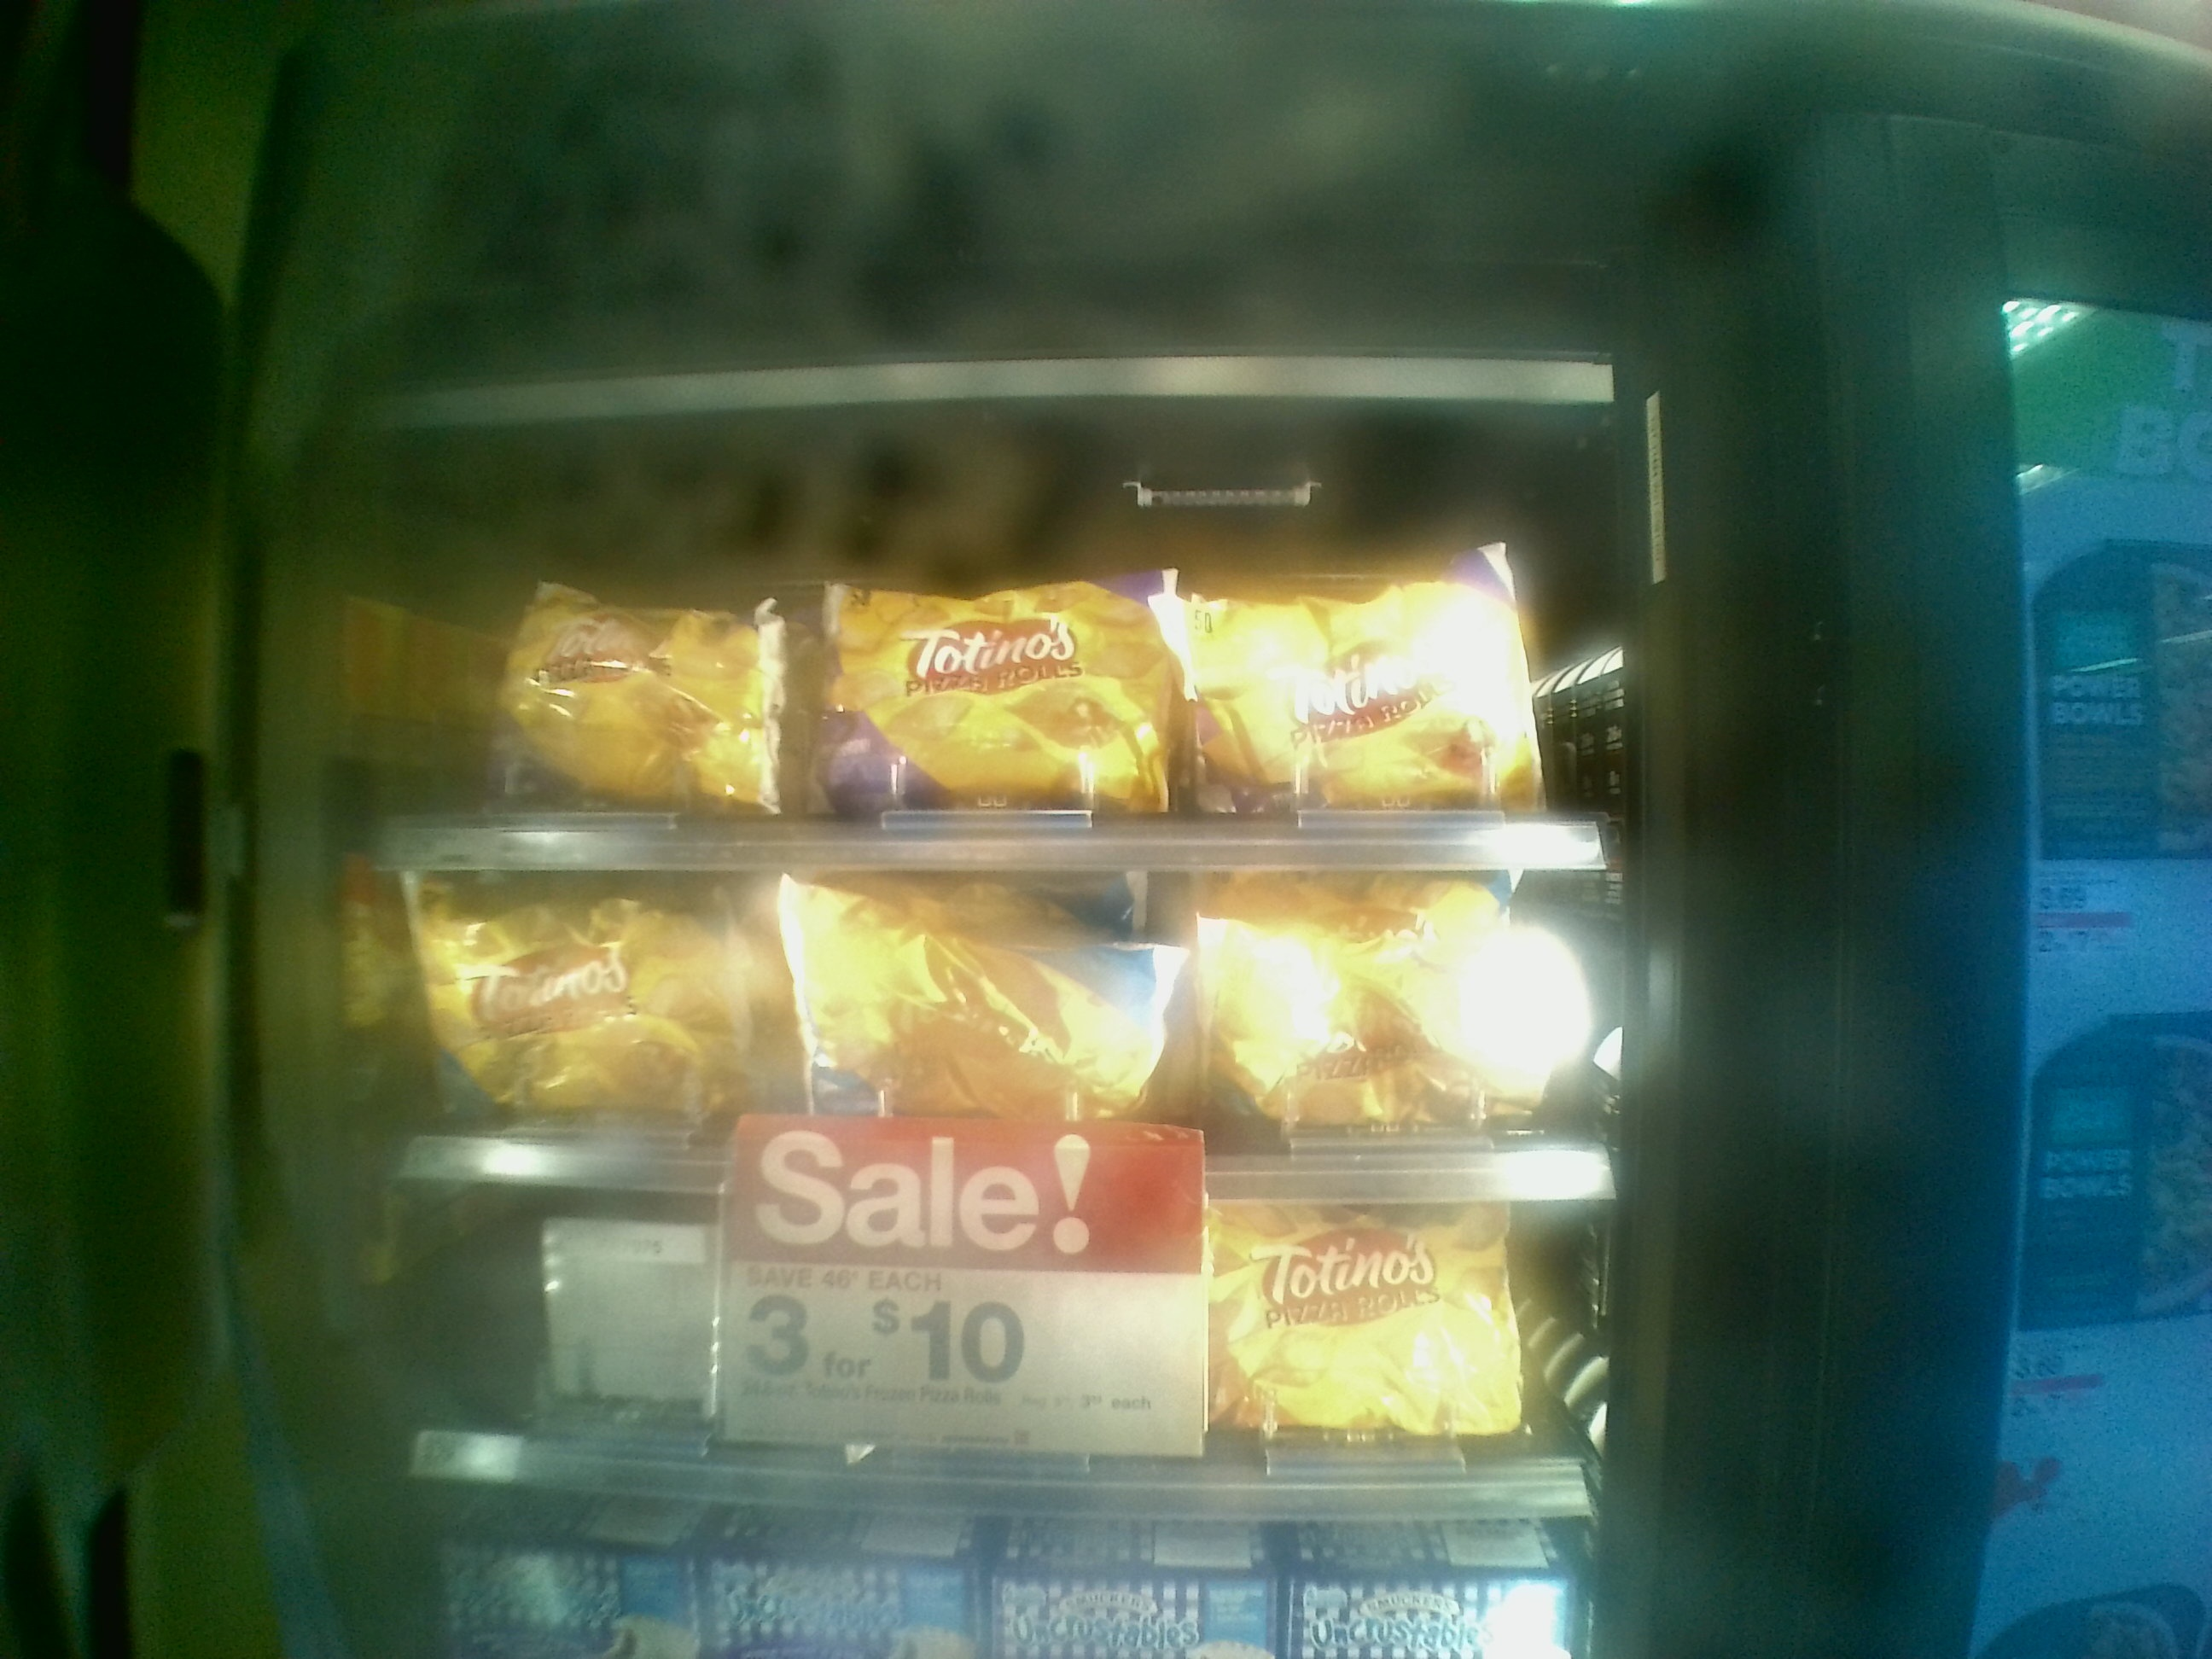shelf: (341, 861, 1634, 1220), (359, 500, 1609, 861)
